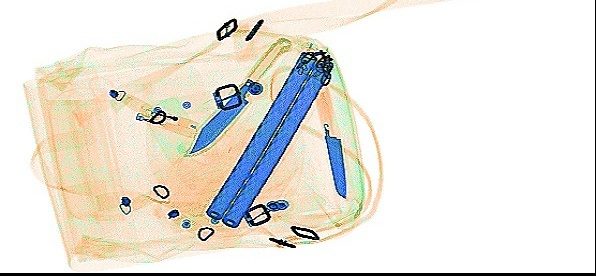knife: (187, 36, 291, 154), (307, 55, 348, 201)
lighter: (133, 101, 200, 139)
